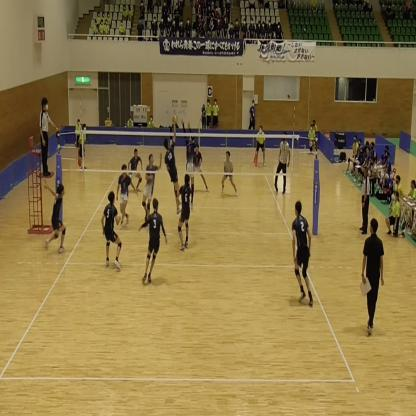spike: (159, 112, 183, 214)
